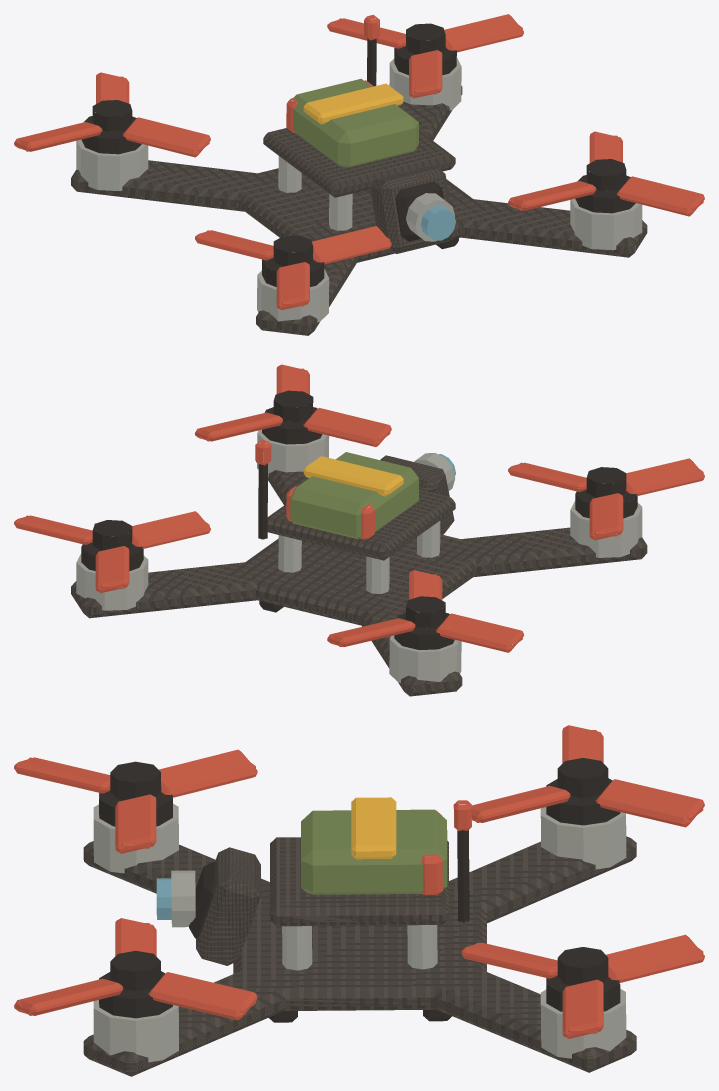
The model's file is fpvDrone.glb.
3 views of the same model, one above another, from view 1: azimuth 30°, elevation 25°; view 2: azimuth 150°, elevation 25°; view 3: azimuth 270°, elevation 25° (orthographic). The views are drawn at different scales.
Visible parts, largest first — view 1: FPV_Drone, Prop_FL, Prop_RR, Prop_FR, Prop_RL; view 2: FPV_Drone, Prop_RR, Prop_FL, Prop_FR, Prop_RL; view 3: FPV_Drone, Prop_FL, Prop_RR, Prop_FR, Prop_RL.
Boxes of the visible parts, x1=… form: FPV_Drone: x1=71, y1=14, x2=647, y2=335; Prop_FL: x1=195, y1=226, x2=391, y2=310; Prop_RR: x1=327, y1=14, x2=523, y2=98; Prop_FR: x1=508, y1=131, x2=704, y2=216; Prop_RL: x1=14, y1=72, x2=210, y2=157; FPV_Drone: x1=71, y1=407, x2=647, y2=696; Prop_RR: x1=14, y1=511, x2=210, y2=592; Prop_FL: x1=508, y1=458, x2=704, y2=540; Prop_FR: x1=195, y1=364, x2=391, y2=446; Prop_RL: x1=327, y1=570, x2=523, y2=652; FPV_Drone: x1=83, y1=778, x2=636, y2=1076; Prop_FL: x1=14, y1=749, x2=257, y2=853; Prop_RR: x1=461, y1=934, x2=704, y2=1038; Prop_FR: x1=14, y1=918, x2=257, y2=1020; Prop_RL: x1=471, y1=725, x2=704, y2=827.
Bounding box in the file's own units: 0.4758 × 0.1602 × 0.4632.
1 material, 1 textured.
